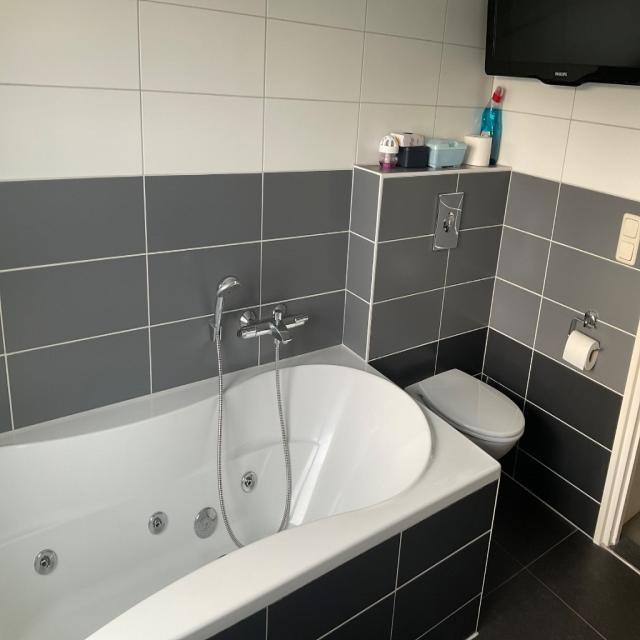bath: (0, 304, 501, 640)
toilet: (404, 191, 526, 462)
